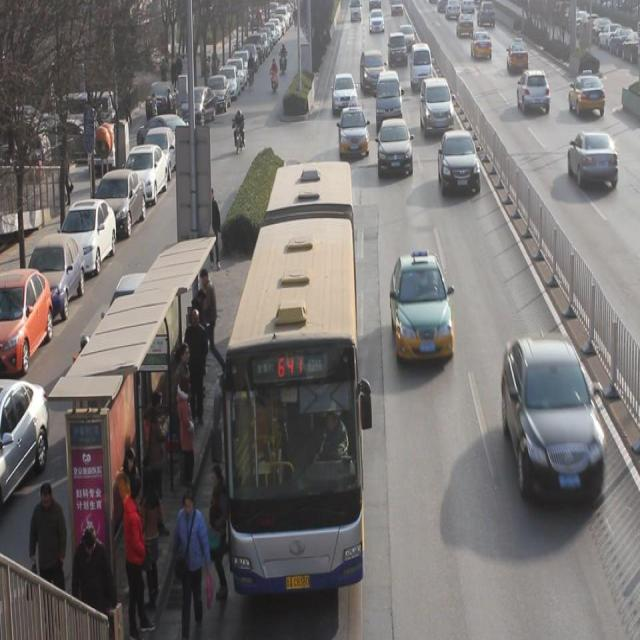car: (503, 339, 606, 501), (389, 253, 455, 362), (567, 129, 618, 189), (438, 128, 482, 192), (379, 117, 413, 177), (420, 77, 454, 134), (568, 70, 606, 116), (516, 68, 550, 114), (339, 106, 370, 156), (360, 49, 385, 93), (332, 72, 358, 113), (507, 36, 530, 74), (471, 25, 493, 60), (389, 33, 408, 68), (400, 23, 416, 49)
truck: (377, 74, 403, 124), (410, 40, 433, 89)
van: (225, 158, 362, 594)
